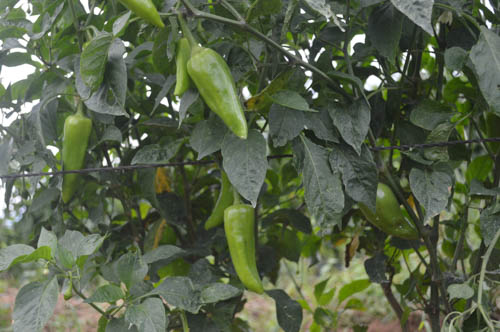ChiliPepper: (188, 51, 248, 137), (354, 188, 425, 241), (222, 206, 264, 294), (59, 118, 94, 205), (200, 172, 233, 230), (171, 40, 192, 104)
